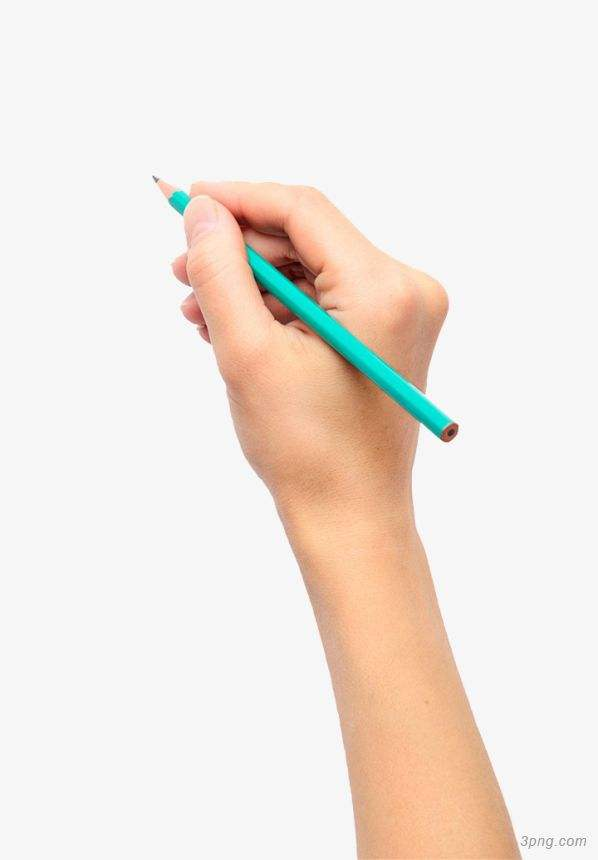no-phone: (145, 164, 460, 560)
